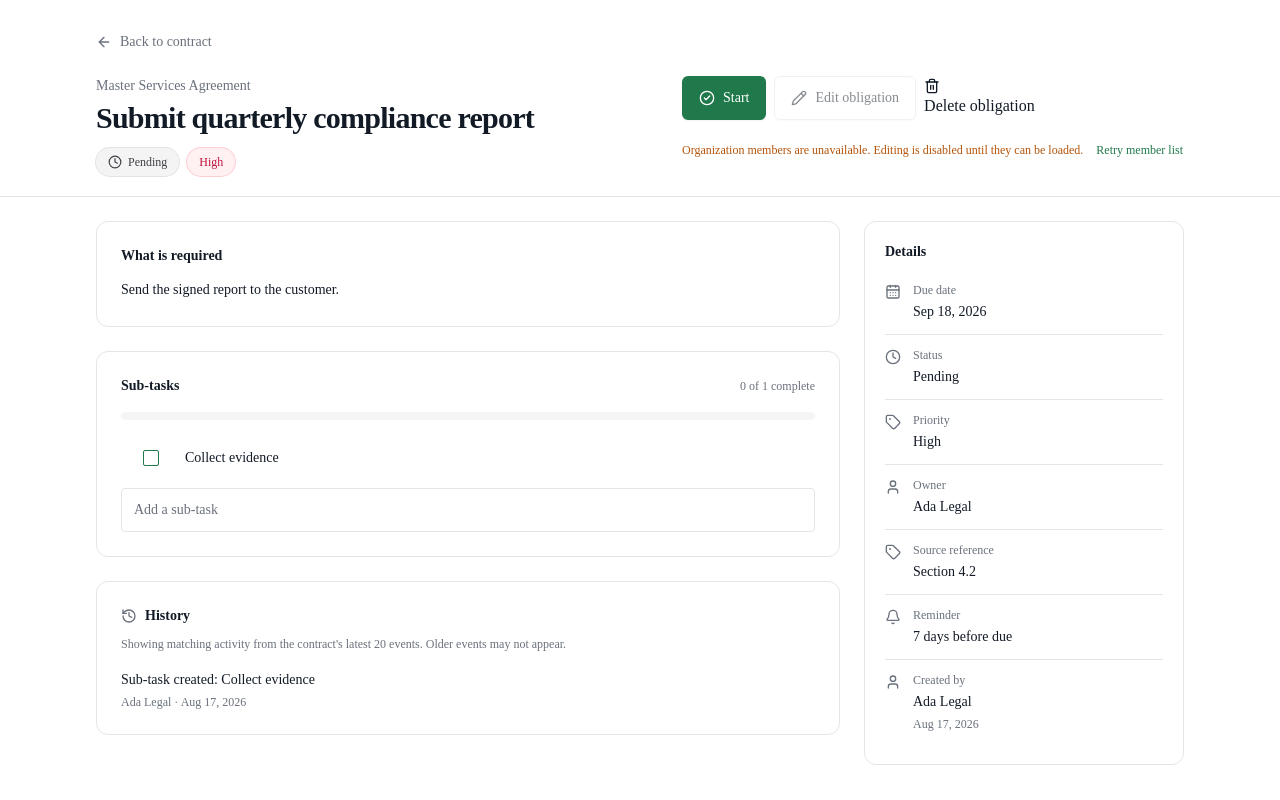
Test: obligation detail responsive action surface › keeps editing disabled and offers retry when the member directory is unavailable
Check: the button "Edit obligation" is disabled, box [774,76,916,120]
Check: the text "Organization members are unavailable. Editing is disabled until they can be loaded." is shown, box [682,143,1083,157]
Click the button "Retry member list".
click(1140, 150)  # box [1095,128,1184,172]
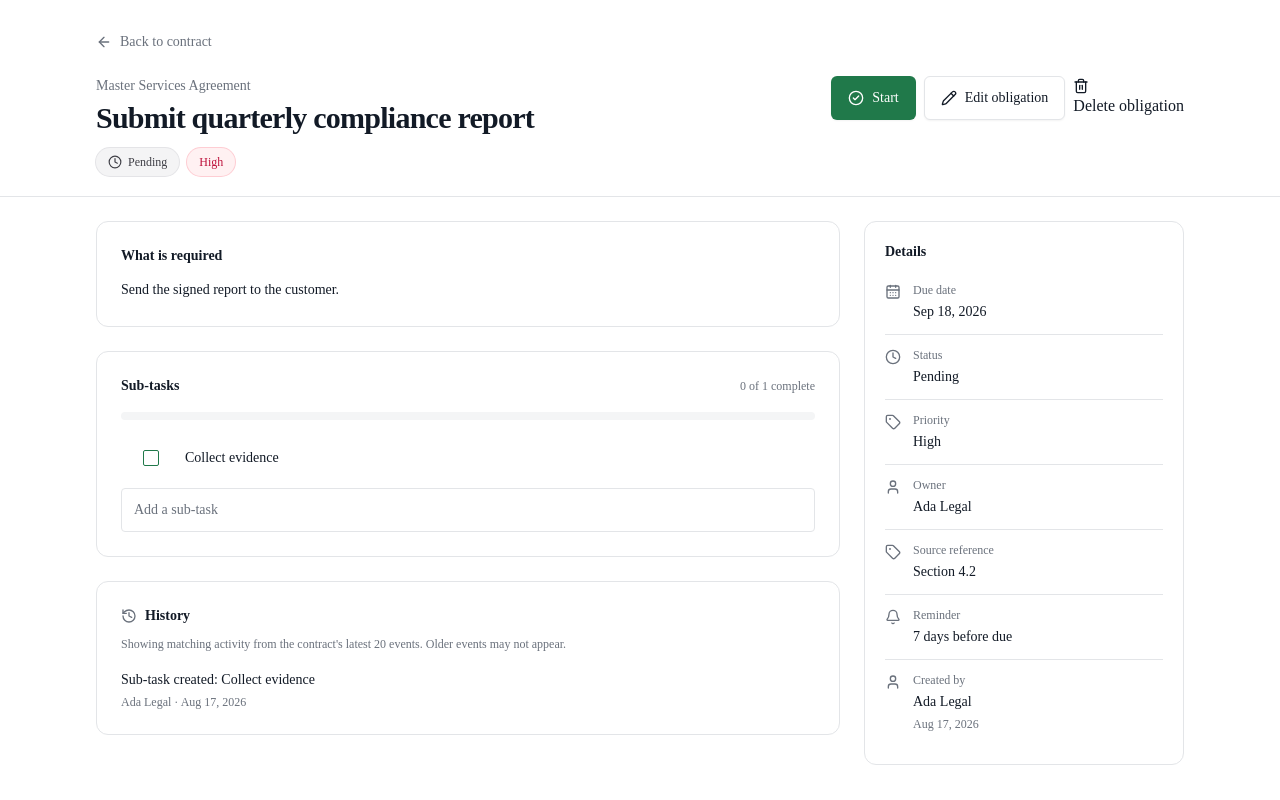
Check: the button "Edit obligation" is enabled, box [924,76,1065,120]
